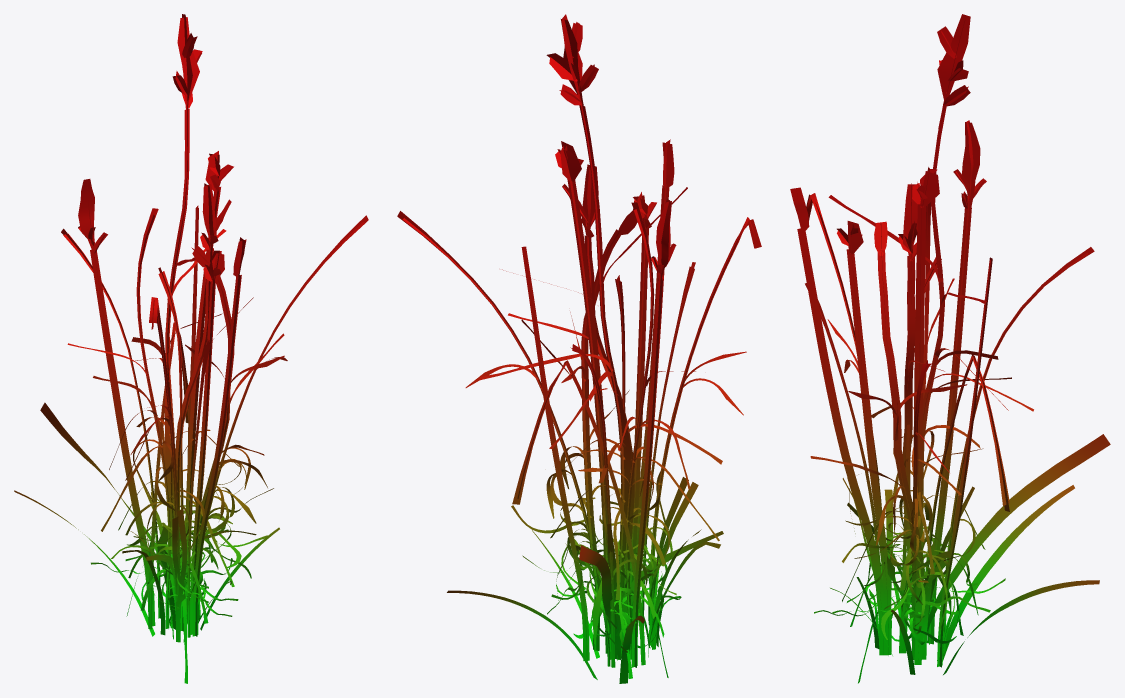
File: tcfoejcr_Var3_LOD0.fbx
The picture shows the model from 3 angles, left to right: view 1: azimuth 30°, elevation 25°; view 2: azimuth 150°, elevation 25°; view 3: azimuth 270°, elevation 25°; orthographic projection. The views are drawn at different scales.
Parts seen in each view (by area): view 1: _94bf_Var3_LOD0; view 2: _94bf_Var3_LOD0; view 3: _94bf_Var3_LOD0.
Boxes of the visible parts, x1,y1,x2,y2 form: _94bf_Var3_LOD0: [14, 14, 368, 683]; _94bf_Var3_LOD0: [397, 14, 761, 683]; _94bf_Var3_LOD0: [790, 14, 1110, 683].
Size of the model in its own units: 56.88 by 117 by 48.94.
